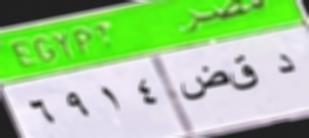1: (91, 84, 124, 111)
4: (137, 74, 160, 113)
6: (27, 95, 56, 130)
9: (58, 87, 93, 126)
daad: (176, 64, 230, 104)
daal: (274, 52, 297, 82)
qaaf: (230, 53, 261, 99)
